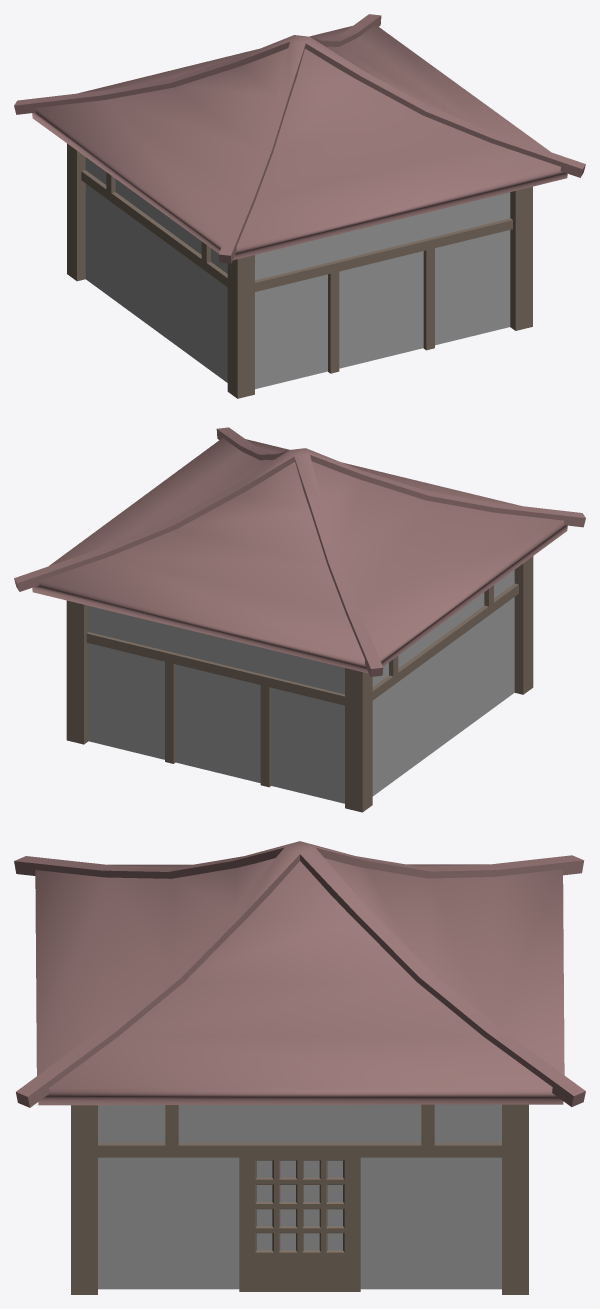
Rendered from building16x16.fbx.
3 views of the same model, one above another, from view 1: azimuth 30°, elevation 25°; view 2: azimuth 150°, elevation 25°; view 3: azimuth 270°, elevation 25° (orthographic). The views are drawn at different scales.
Visible parts, largest first — view 1: polySurface29, building_16x16, polySurface34, pCube88, pCube87, pCube91, pCube89, pCube93, pCube103, pCube102; view 2: polySurface29, building_16x16, polySurface34, pCube89, pCube86, pCube90, pCube88, pCube93, pCube105, pCube104; view 3: polySurface29, building_16x16, polySurface34, pCube97, pCube92, pCube86, pCube87, pCube98, pCube99, pCube95.
Boxes of the visible parts, x1,y1,x2,y2 form: polySurface29: (32, 24, 567, 260); building_16x16: (85, 157, 510, 389); polySurface34: (14, 14, 585, 263); pCube88: (227, 255, 254, 398); pCube87: (510, 186, 532, 330); pCube91: (255, 218, 512, 291); pCube89: (67, 143, 85, 281); pCube93: (81, 170, 227, 286); pCube103: (328, 271, 339, 373); pCube102: (423, 248, 434, 350); polySurface29: (32, 438, 567, 673); building_16x16: (88, 570, 514, 803); polySurface34: (14, 427, 585, 676); pCube89: (345, 668, 372, 812); pCube86: (66, 600, 88, 744); pCube90: (86, 632, 344, 705); pCube88: (514, 556, 533, 694); pCube93: (372, 583, 518, 700); pCube105: (260, 685, 271, 787); pCube104: (165, 662, 175, 763); polySurface29: (35, 846, 564, 1105); building_16x16: (98, 1104, 501, 1289); polySurface34: (14, 841, 585, 1107); pCube97: (253, 1157, 346, 1291); pCube92: (98, 1142, 501, 1157); pCube86: (502, 1104, 528, 1294); pCube87: (71, 1105, 97, 1294); pCube98: (347, 1157, 360, 1291); pCube99: (239, 1157, 252, 1291); pCube95: (421, 1104, 434, 1145).
Bounding box in the file's own units: 2124 × 1444 × 2124.
